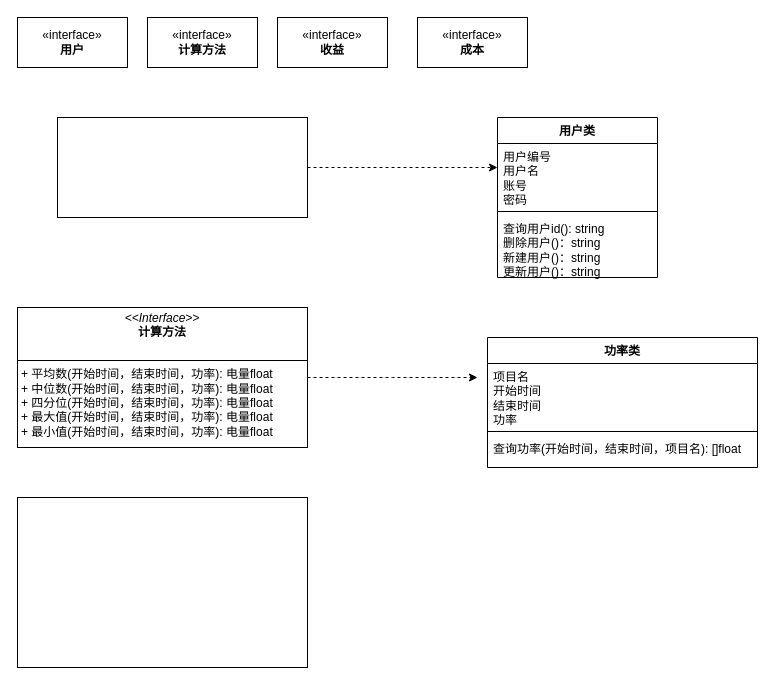
Image size: 775x685. Some labels were removed from this diagram. Here are the shapes that lost their labels. From the top down, the centre of each, then its label:
At point (182, 167): "<<Interface>> 用户接口 + 用户登录(账号，密码): bool + 用户注册(用户名，账号，密码): bool".
At point (162, 582): "<<Interface>> 电量接口 + 总用电量: bool + 尖用电量: float 峰用电量 平用电量 谷用电量 深谷用电量".
